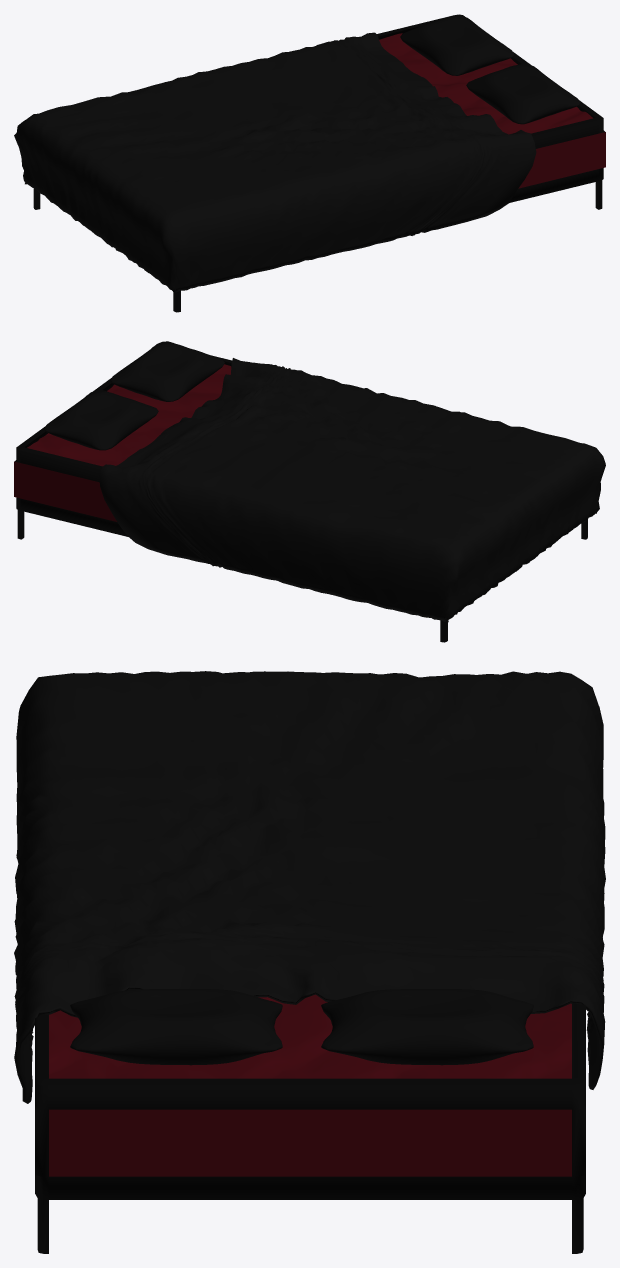
Rendered from Bed1Alt.glb.
The picture shows the model from 3 angles, top to bottom: view 1: azimuth 30°, elevation 25°; view 2: azimuth 150°, elevation 25°; view 3: azimuth 270°, elevation 25°; orthographic projection. The views are drawn at different scales.
Parts seen in each view (by area): view 1: Cube.001; view 2: Cube.001; view 3: Cube.001.
Boxes of the visible parts, left/top/right/bottom form: Cube.001: left=14, top=14, right=605, bottom=312; Cube.001: left=14, top=341, right=605, bottom=642; Cube.001: left=14, top=671, right=605, bottom=1253.
Size of the model in its own units: 3.15 by 0.7581 by 1.91.
